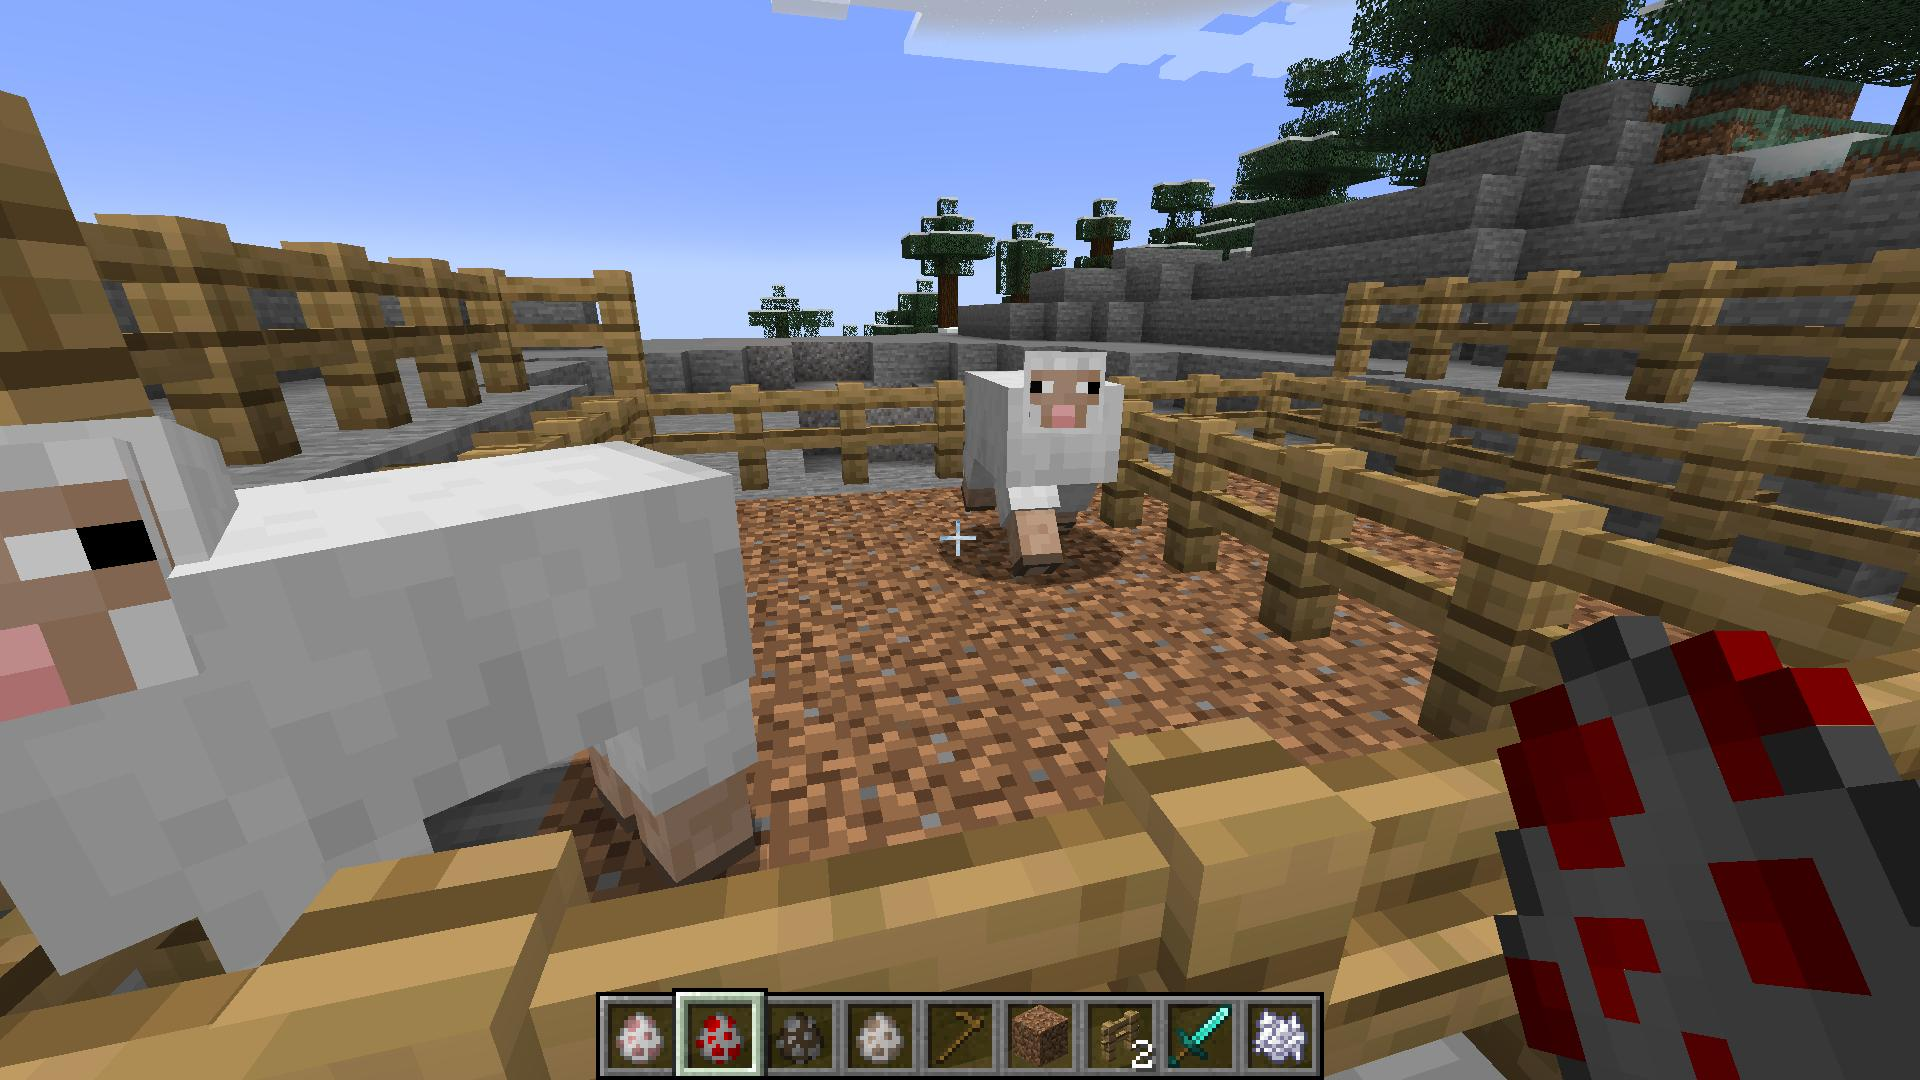sheep: (0, 390, 765, 984), (953, 347, 1129, 567)
